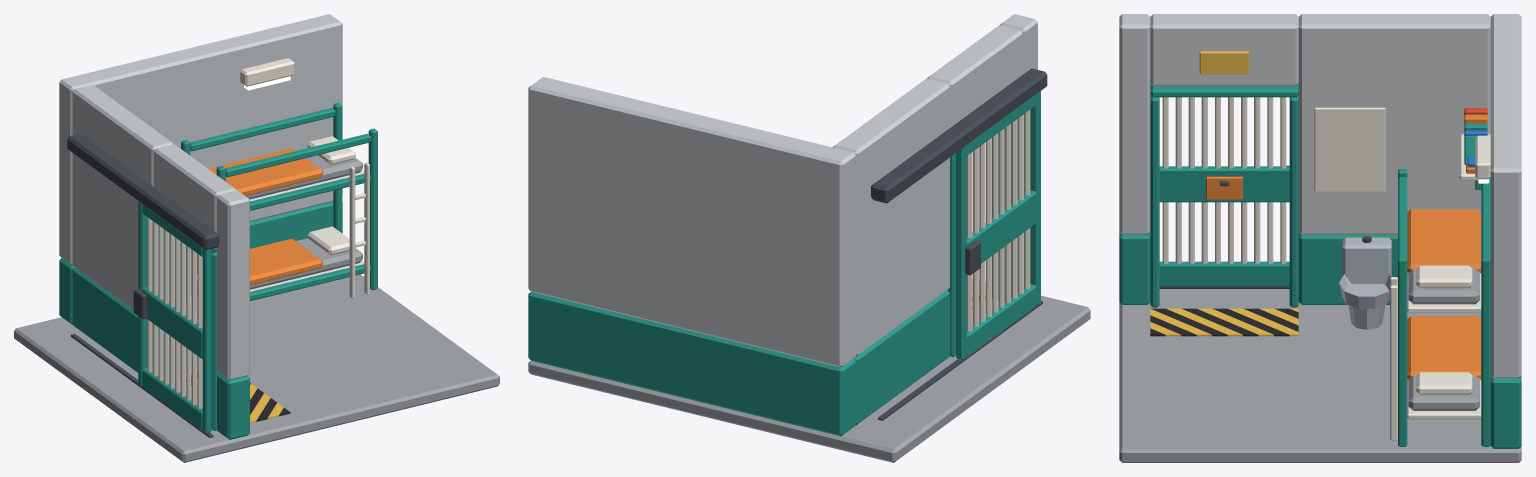
Rendered from prison_cell.gltf.
3 renders of one model, left to right at view 1: azimuth 30°, elevation 25°; view 2: azimuth 150°, elevation 25°; view 3: azimuth 270°, elevation 25°, orthographic. The views are drawn at different scales.
Parts seen in each view (by area): view 1: Cell_Shell, BunkBed, CellDoor, WallLamp, HazardStripes; view 2: Cell_Shell, CellDoor; view 3: Cell_Shell, BunkBed, CellDoor, Poster_Blank, HazardStripes, Toilet, Shelf_Books, FoodHatch, WallLamp.
Part boxes in pixels (left/top/right/bottom): Cell_Shell: left=14, top=14, right=499, bottom=462; BunkBed: left=181, top=102, right=377, bottom=301; CellDoor: left=133, top=201, right=211, bottom=433; WallLamp: left=240, top=58, right=294, bottom=90; HazardStripes: left=186, top=374, right=290, bottom=423; Cell_Shell: left=528, top=14, right=1090, bottom=462; CellDoor: left=956, top=91, right=1040, bottom=359; Cell_Shell: left=1119, top=14, right=1521, bottom=462; BunkBed: left=1390, top=169, right=1490, bottom=446; CellDoor: left=1159, top=97, right=1289, bottom=286; Poster_Blank: left=1314, top=107, right=1385, bottom=192; HazardStripes: left=1150, top=308, right=1298, bottom=336; Toilet: left=1339, top=236, right=1391, bottom=329; Shelf_Books: left=1459, top=108, right=1490, bottom=189; FoodHatch: left=1206, top=176, right=1242, bottom=199; WallLamp: left=1475, top=135, right=1490, bottom=183.
Bounding box in the file's own units: 24.97 × 18.73 × 23.19.
